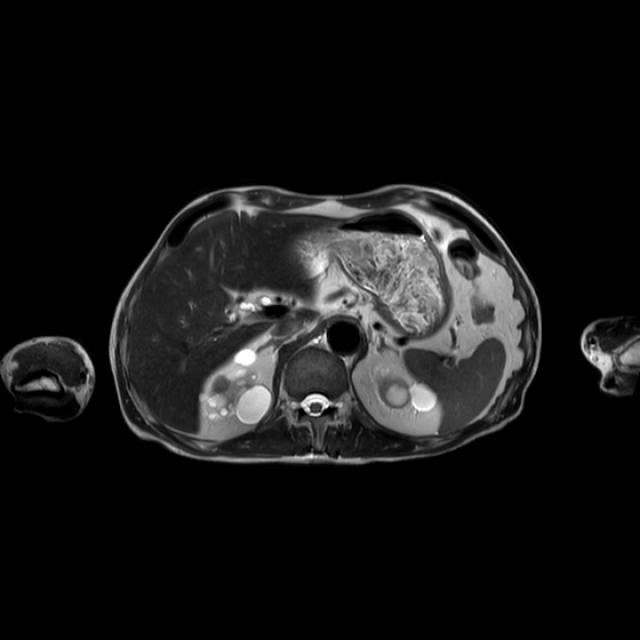sag: (206, 348, 275, 427)
sol: (378, 374, 440, 416)
